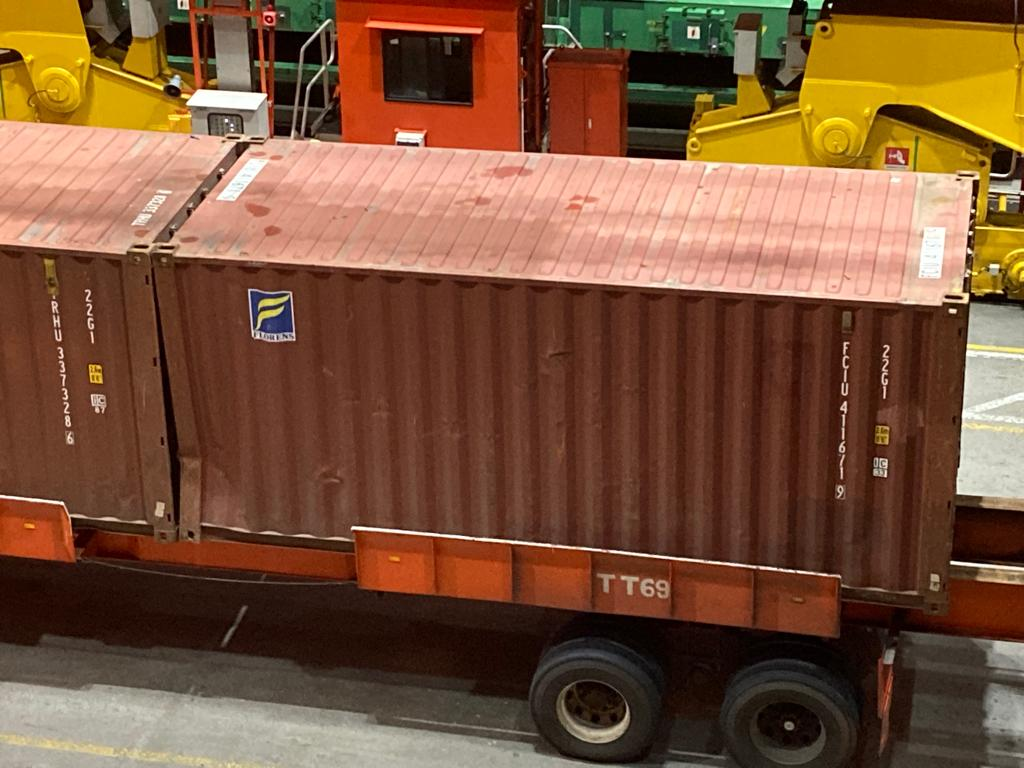dented: (175, 432, 247, 528), (419, 420, 577, 462), (298, 456, 363, 491), (540, 341, 589, 371)
